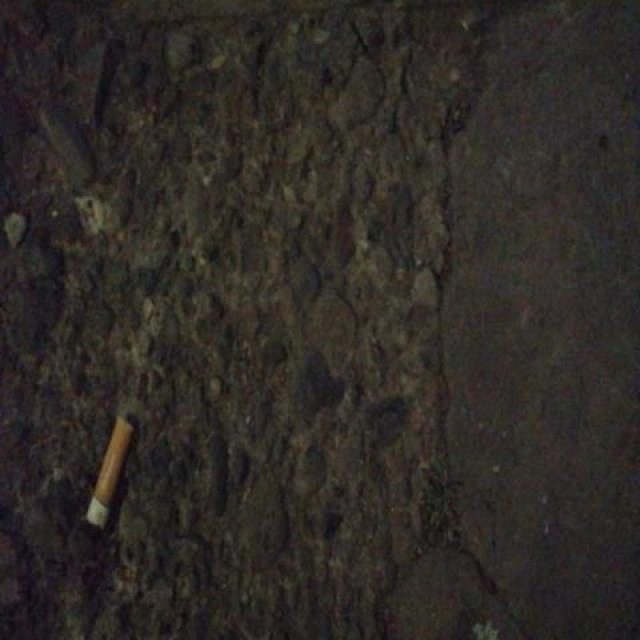non-organic waste: (82, 409, 137, 534)
